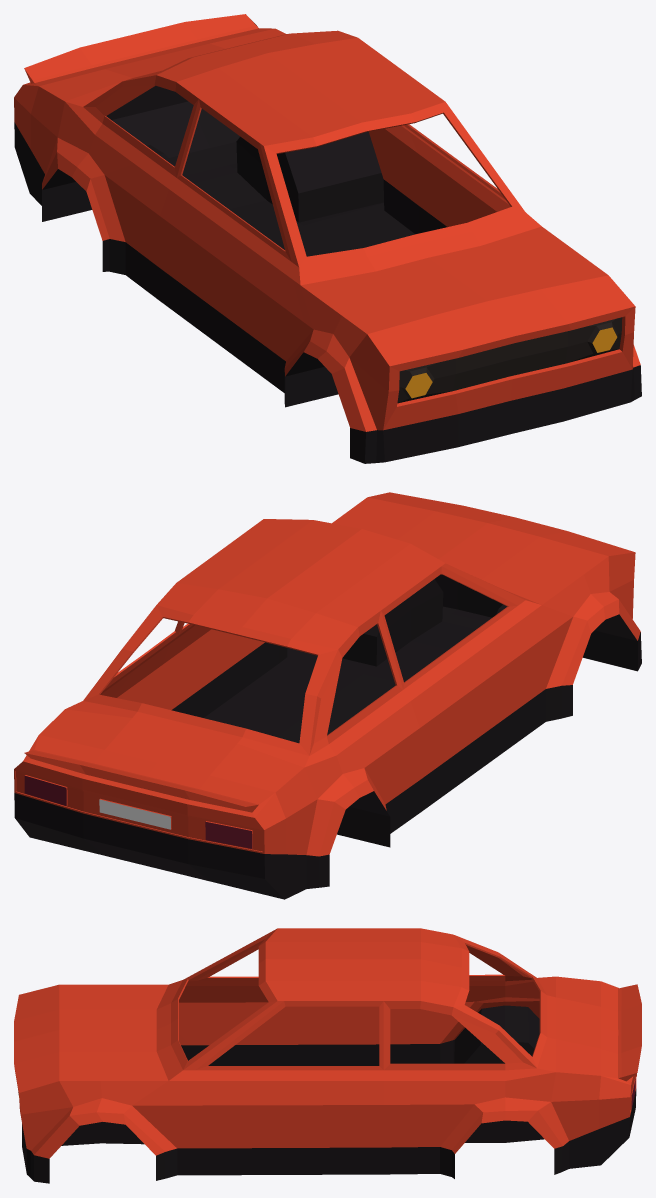
Rendered from RallyRWD_1.glb.
The picture shows the model from 3 angles, top to bottom: view 1: azimuth 30°, elevation 25°; view 2: azimuth 150°, elevation 25°; view 3: azimuth 270°, elevation 25°; orthographic projection. The views are drawn at different scales.
Parts seen in each view (by area): view 1: RallyRwdMk2; view 2: RallyRwdMk2; view 3: RallyRwdMk2.
Boxes of the visible parts, x1,y1,x2,y2 form: RallyRwdMk2: (14,14,641,463); RallyRwdMk2: (14,492,641,899); RallyRwdMk2: (14,928,641,1183).
Bounding box in the file's own units: 1.69 × 1.15 × 3.91.
Materials: 1 (1 with a texture image).
